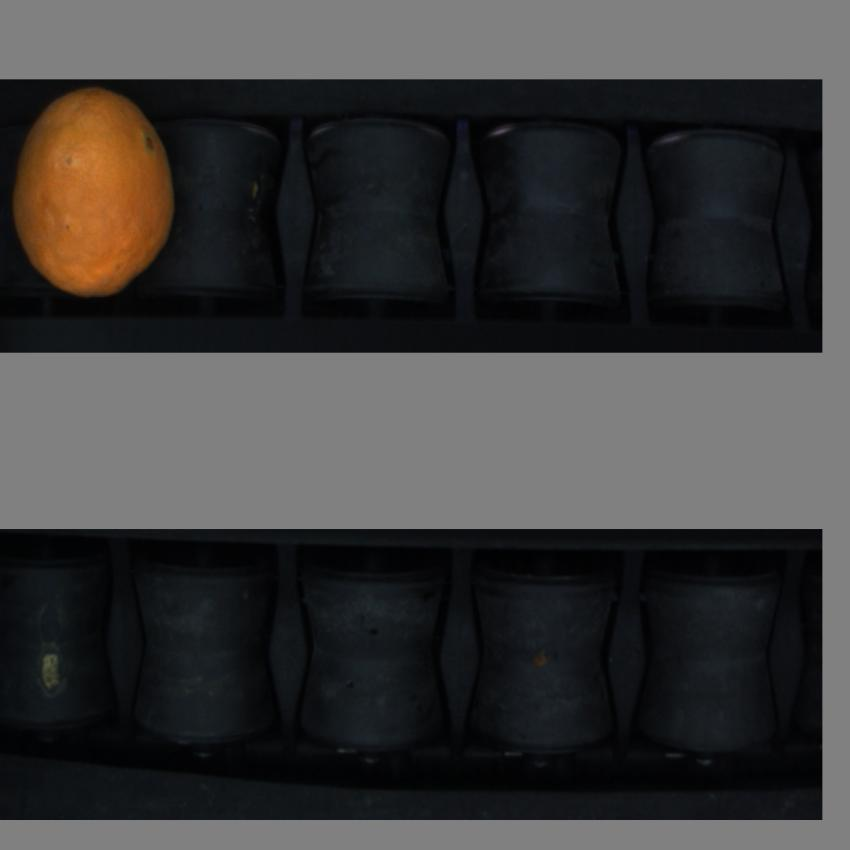Mal estado: (12, 96, 183, 302)
